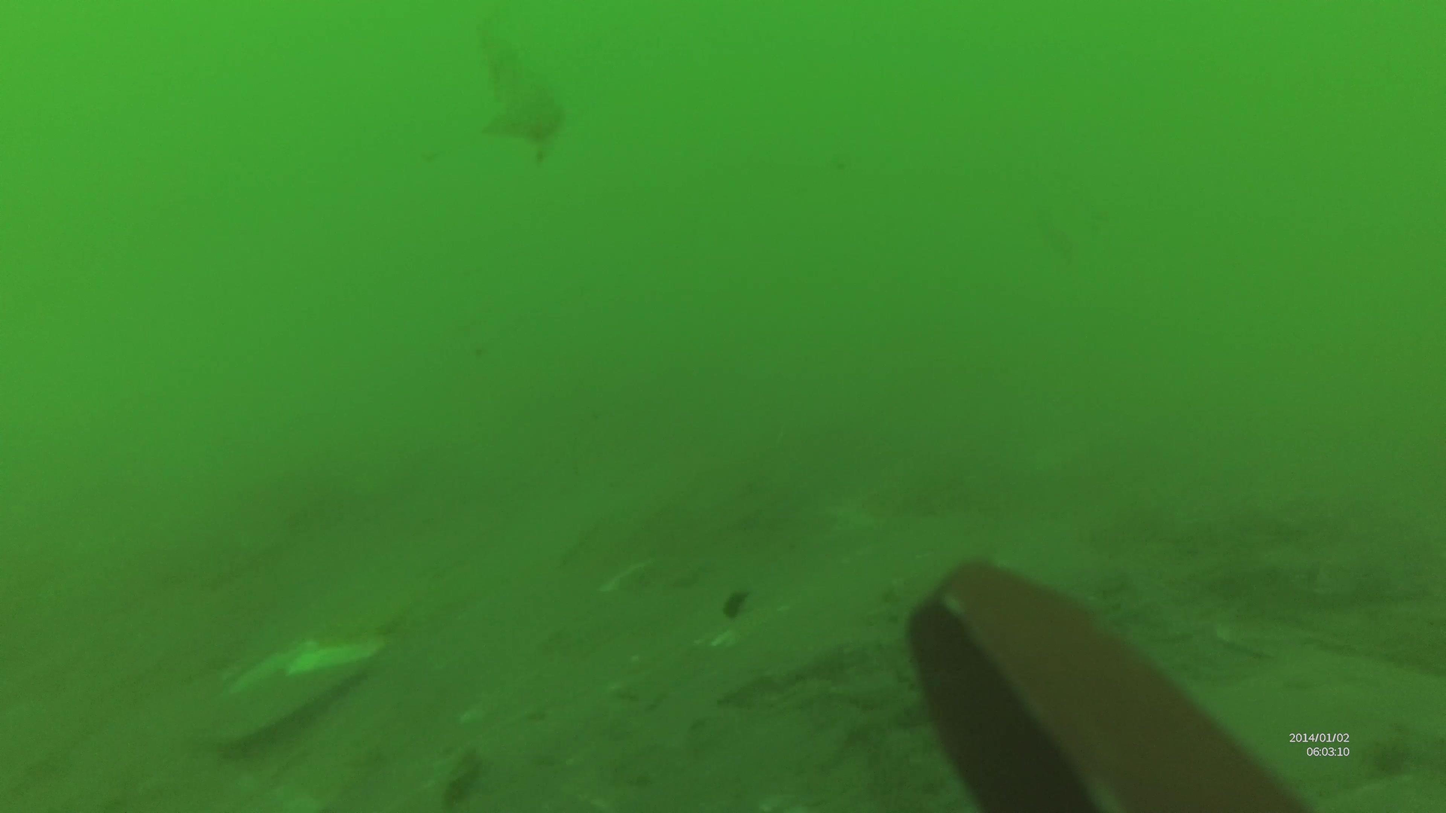scallop: (216, 640, 379, 742)
